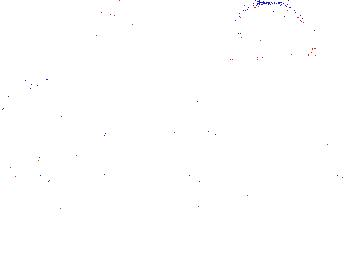moon jellyfish: (24, 9, 126, 88), (223, 3, 317, 61), (108, 18, 198, 58)
